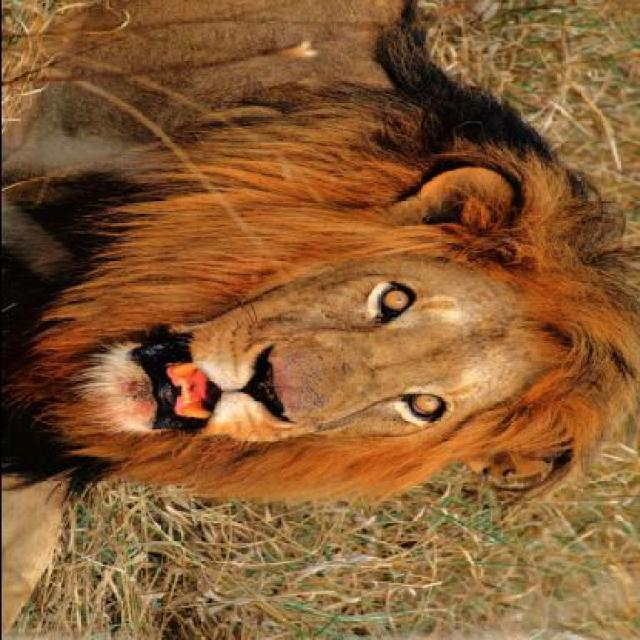Lion: (2, 1, 636, 558)
